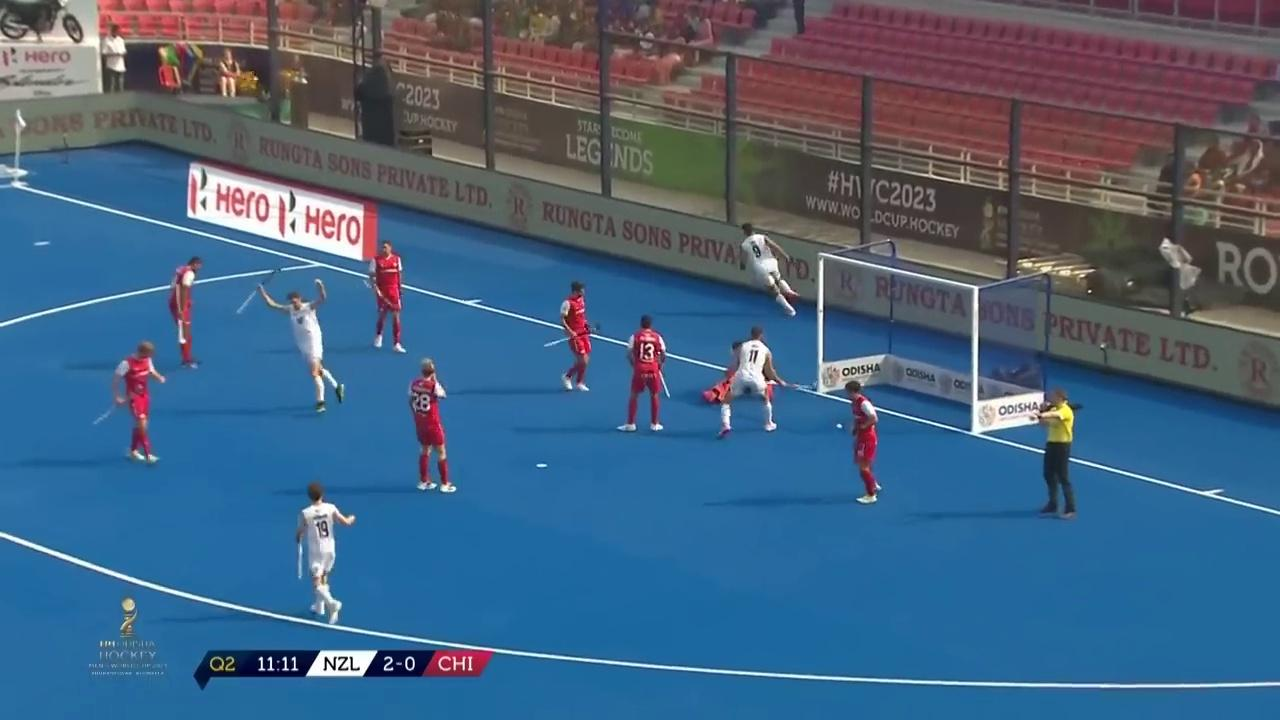ball: (825, 416, 849, 435)
